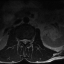CCS_stenosis: (24, 37, 26, 45)
LFS_normal: (28, 38, 30, 43)
LLS_normal: (26, 37, 28, 44)
RFS_stenosis: (20, 38, 22, 43)
RLS_normal: (22, 37, 24, 43)
